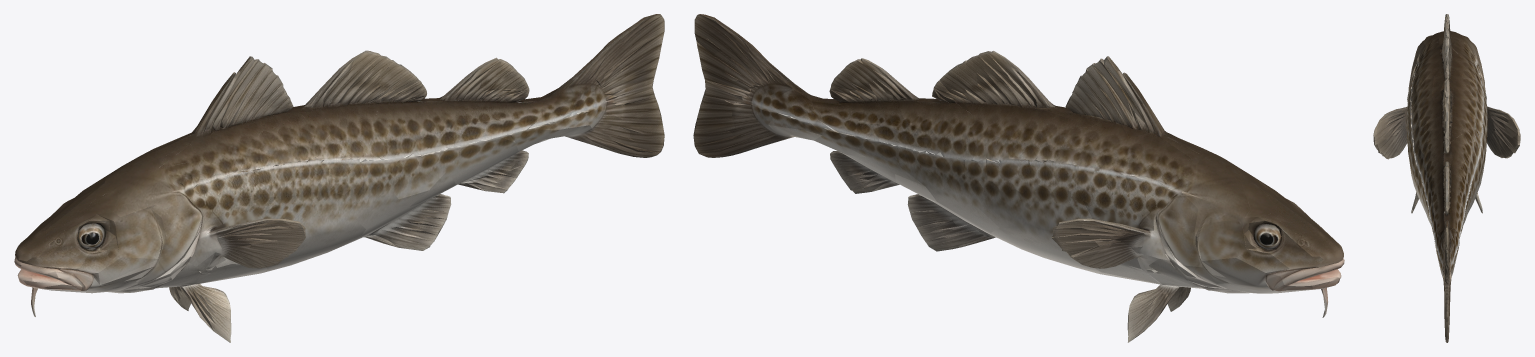
Rendered from fishCod.glb.
3 renders of one model, left to right at view 1: azimuth 30°, elevation 25°; view 2: azimuth 150°, elevation 25°; view 3: azimuth 270°, elevation 25°, orthographic. The views are drawn at different scales.
Visible parts, largest first — view 1: Mesh_0; view 2: Mesh_0; view 3: Mesh_0.
Boxes of the visible parts, left/top/right/bottom form: Mesh_0: left=14, top=14, right=664, bottom=342; Mesh_0: left=693, top=14, right=1344, bottom=342; Mesh_0: left=1373, top=14, right=1520, bottom=342.
Size of the model in its own units: 0.4 by 0.1534 by 0.0946.
Materials: 1 (1 with a texture image).
